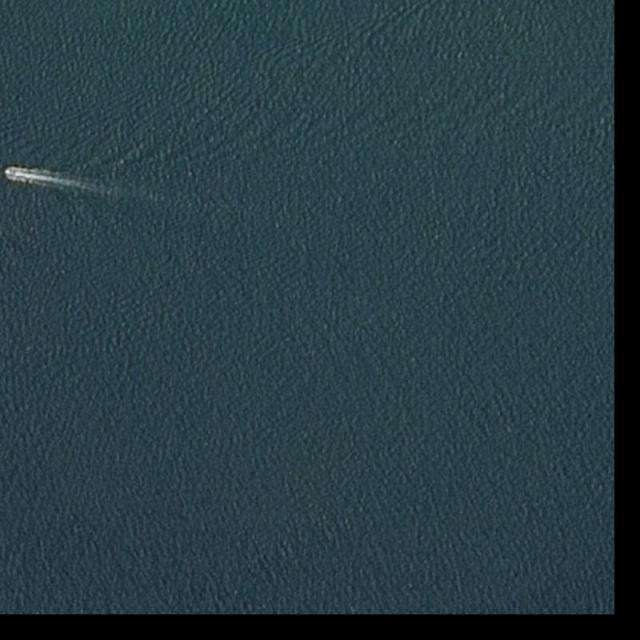ship: (1, 169, 17, 178)
